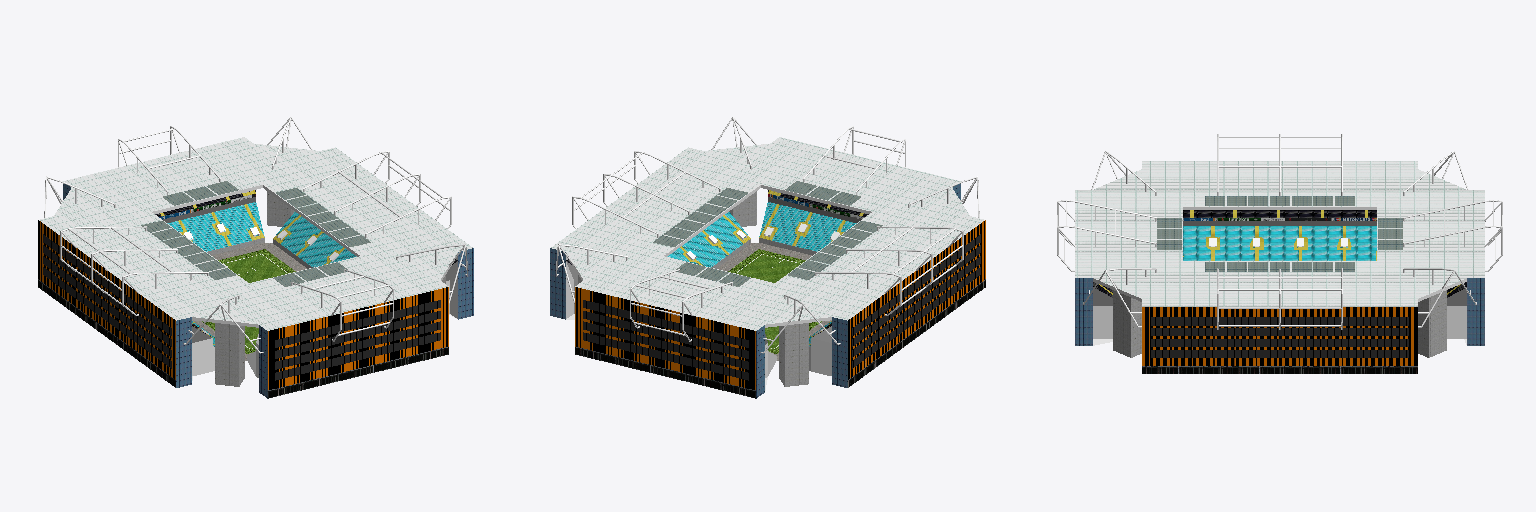
3 views of the same model, side by side, from view 1: azimuth 30°, elevation 25°; view 2: azimuth 150°, elevation 25°; view 3: azimuth 270°, elevation 25° (orthographic).
Parts seen in each view (by area): view 1: Mesh65 Model; view 2: Mesh65 Model; view 3: Mesh65 Model.
Part boxes in pixels (bbox=[...]): Mesh65 Model: bbox=[38, 117, 473, 398]; Mesh65 Model: bbox=[550, 117, 985, 398]; Mesh65 Model: bbox=[1057, 134, 1502, 373].
Size of the model in its own units: 212224 by 56288 by 249224.
Materials: 23 (16 with a texture image).